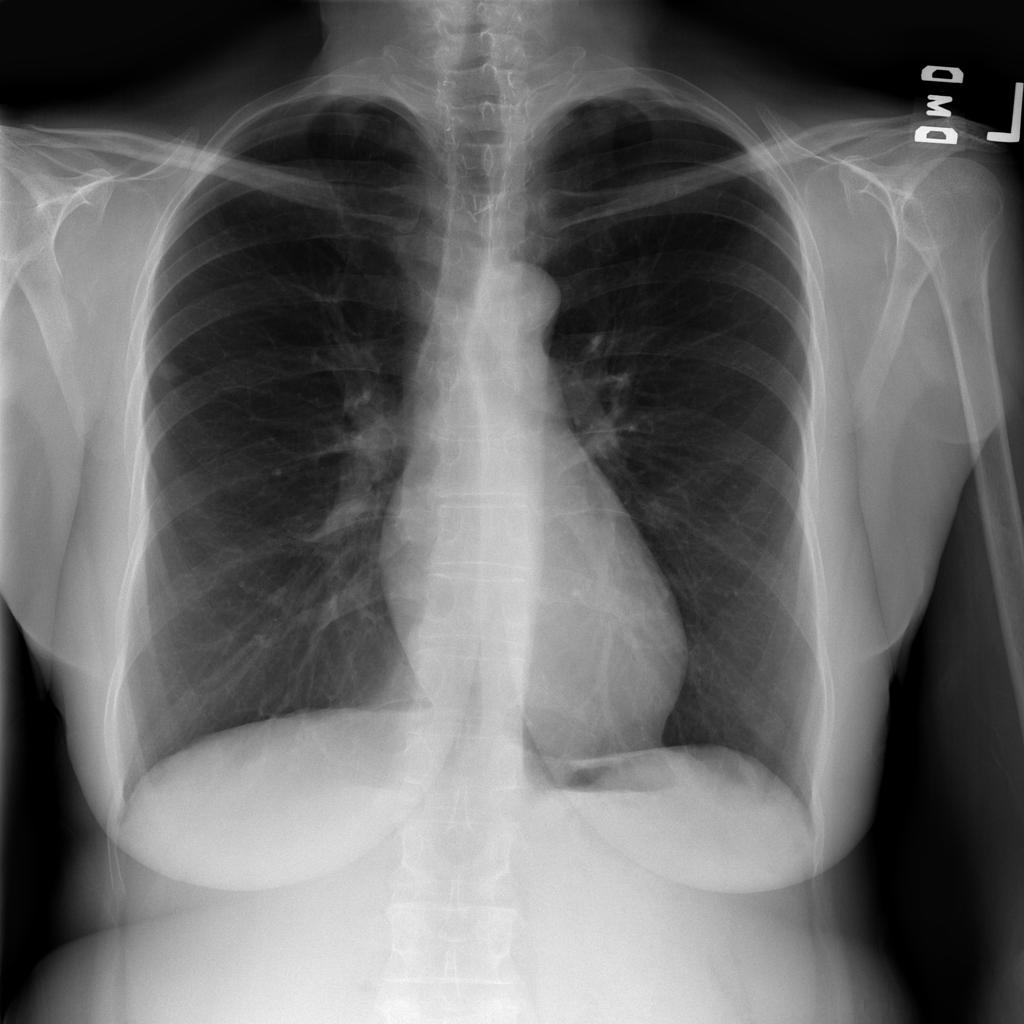nodule: (142, 348, 197, 394)
